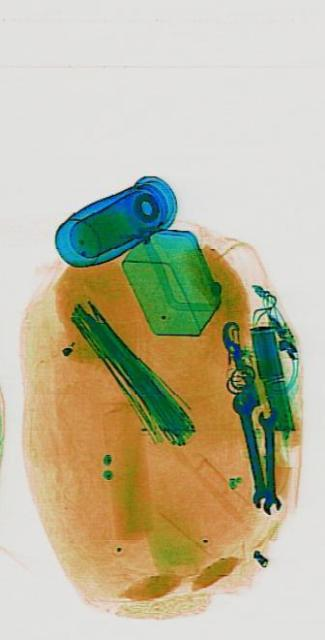Wrench: (228, 383, 272, 511), (255, 402, 281, 516)
